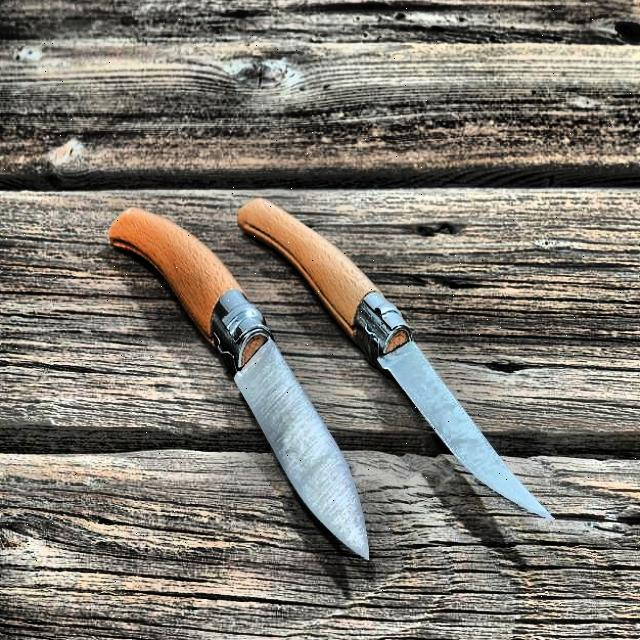knife: (235, 186, 557, 532), (111, 195, 373, 577)
